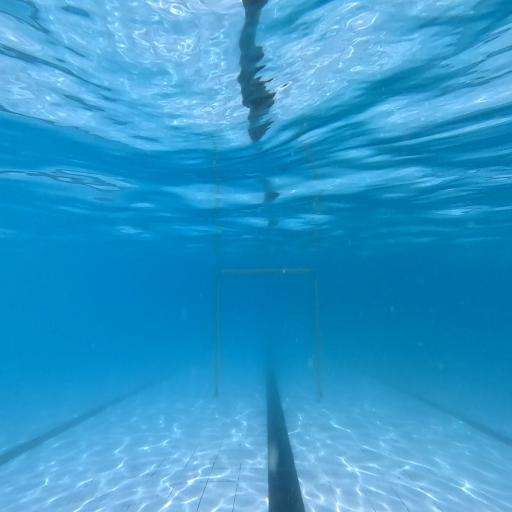gate: (214, 270, 322, 402)
